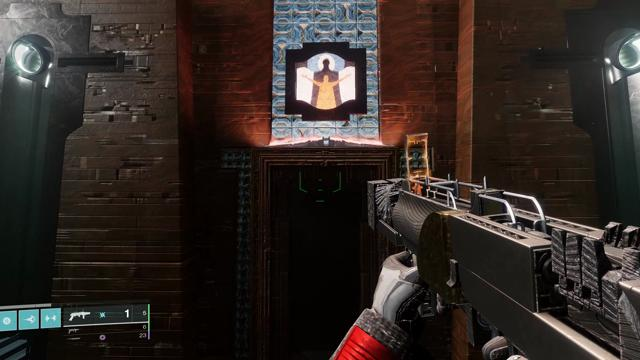worship: (295, 53, 356, 110)
